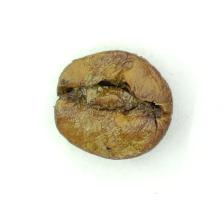NG: (71, 61, 156, 150)
